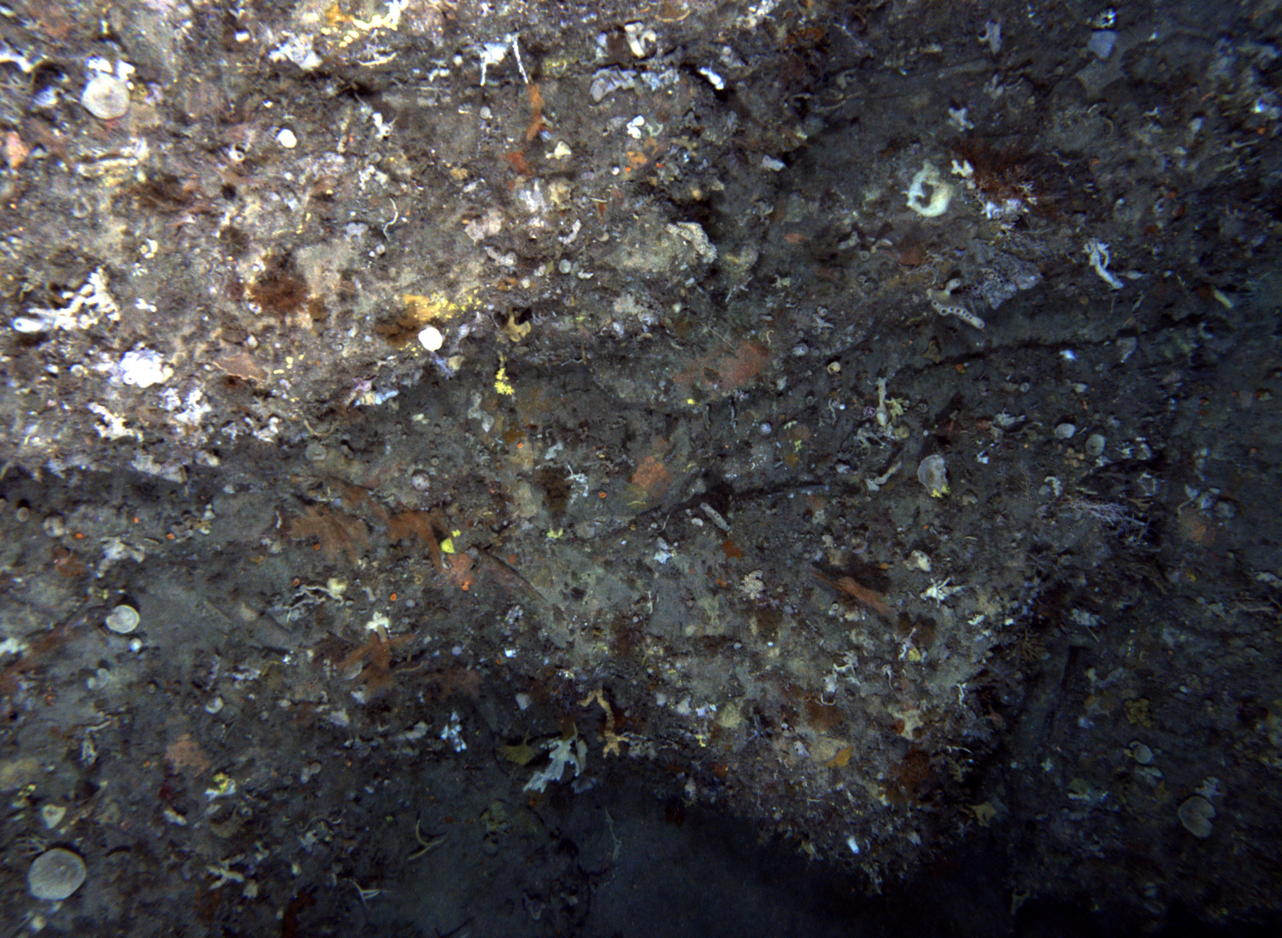Brachionichthyidae: (0, 129, 32, 192)
